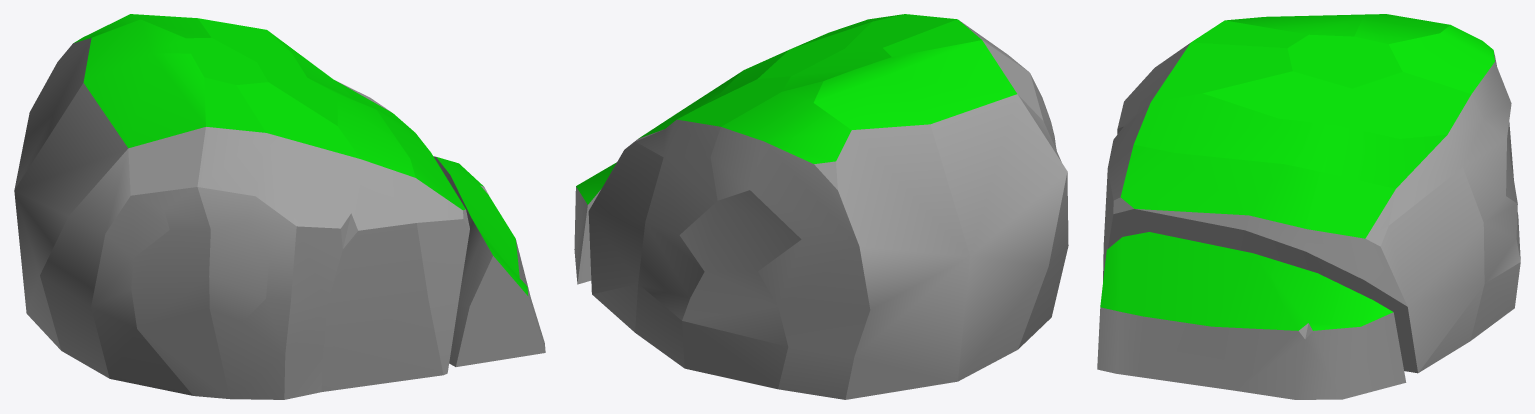
File: rock_jungle_medium_F.fbx
3 views of the same model, side by side, from view 1: azimuth 30°, elevation 25°; view 2: azimuth 150°, elevation 25°; view 3: azimuth 270°, elevation 25° (orthographic). The views are drawn at different scales.
Parts seen in each view (by area): view 1: rock_jungle_medium_F, rock_jungle_medium_K; view 2: rock_jungle_medium_F, rock_jungle_medium_K; view 3: rock_jungle_medium_F, rock_jungle_medium_K.
Part boxes in pixels (bbox=[...]): rock_jungle_medium_F: bbox=[14, 14, 469, 399]; rock_jungle_medium_K: bbox=[433, 156, 545, 366]; rock_jungle_medium_F: bbox=[588, 14, 1068, 399]; rock_jungle_medium_K: bbox=[574, 162, 616, 284]; rock_jungle_medium_F: bbox=[1103, 14, 1520, 373]; rock_jungle_medium_K: bbox=[1097, 232, 1406, 399].
Bounding box in the file's own units: 81.33 × 43.88 × 70.52.
